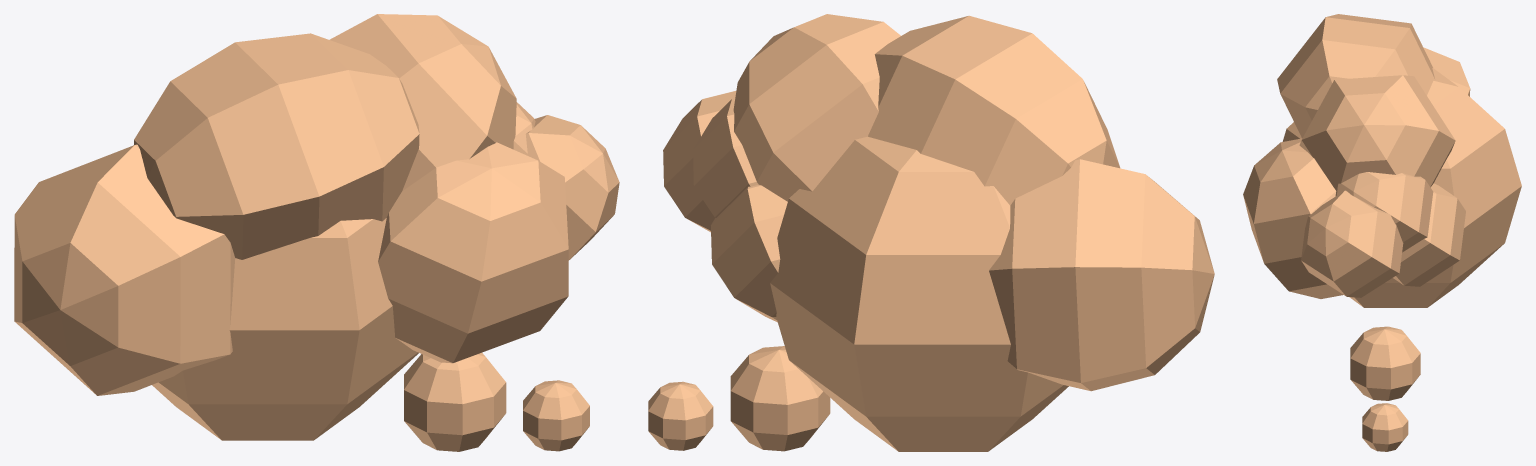
Rendered from neutral_cloud_lower_poly_emotive.gltf.
3 views of the same model, side by side, from view 1: azimuth 30°, elevation 25°; view 2: azimuth 150°, elevation 25°; view 3: azimuth 270°, elevation 25° (orthographic). The views are drawn at different scales.
Visible parts, largest first — view 1: Sphere.008, Sphere.003, Sphere.002, Sphere.009, Sphere.004, Sphere.011, Sphere.007, Sphere.010, Sphere.006; view 2: Sphere.002, Sphere.003, Sphere.008, Sphere.004, Sphere.011, Sphere.005, Sphere.006, Sphere.007, Sphere.010; view 3: Sphere.002, Sphere.004, Sphere.008, Sphere.009, Sphere.007, Sphere.011, Sphere.006, Sphere.005, Sphere.010, Sphere.003.
Part boxes in pixels (x1,y1,x2,y2): Sphere.008: (134,33,419,259); Sphere.003: (14,144,235,395); Sphere.002: (152,218,418,440); Sphere.009: (378,142,568,363); Sphere.004: (329,14,516,190); Sphere.011: (404,352,506,451); Sphere.007: (525,115,619,260); Sphere.010: (523,380,589,451); Sphere.006: (513,102,535,155); Sphere.002: (770,136,1068,451); Sphere.003: (989,159,1214,391); Sphere.008: (868,15,1120,205); Sphere.004: (733,14,900,201); Sphere.011: (730,346,830,451); Sphere.005: (711,184,787,322); Sphere.006: (693,98,758,217); Sphere.007: (663,91,736,232); Sphere.010: (648,381,713,450); Sphere.002: (1282,68,1521,307); Sphere.004: (1299,75,1455,190); Sphere.008: (1277,14,1435,138); Sphere.009: (1243,138,1343,298); Sphere.007: (1301,190,1403,297); Sphere.011: (1350,326,1420,400); Sphere.006: (1335,172,1433,252); Sphere.005: (1393,183,1465,286); Sphere.010: (1362,403,1408,451); Sphere.003: (1423,47,1470,96).
Size of the model in its own units: 1.54 by 1.24 by 0.9661.
